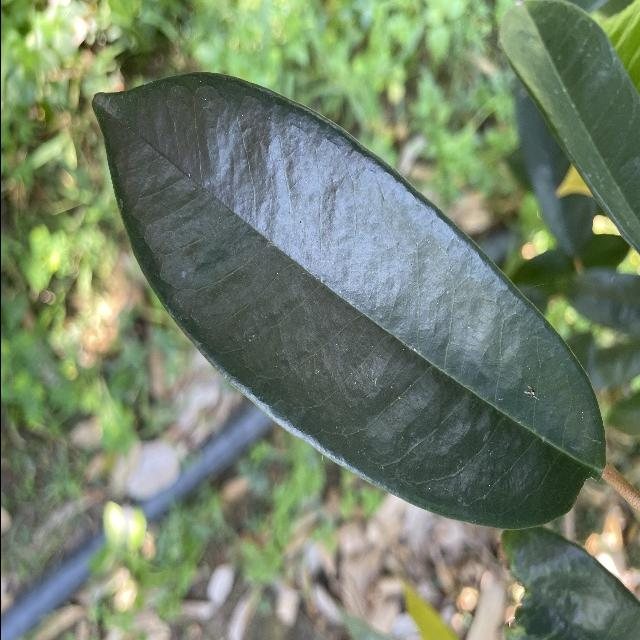No Disease: (84, 61, 617, 539)
